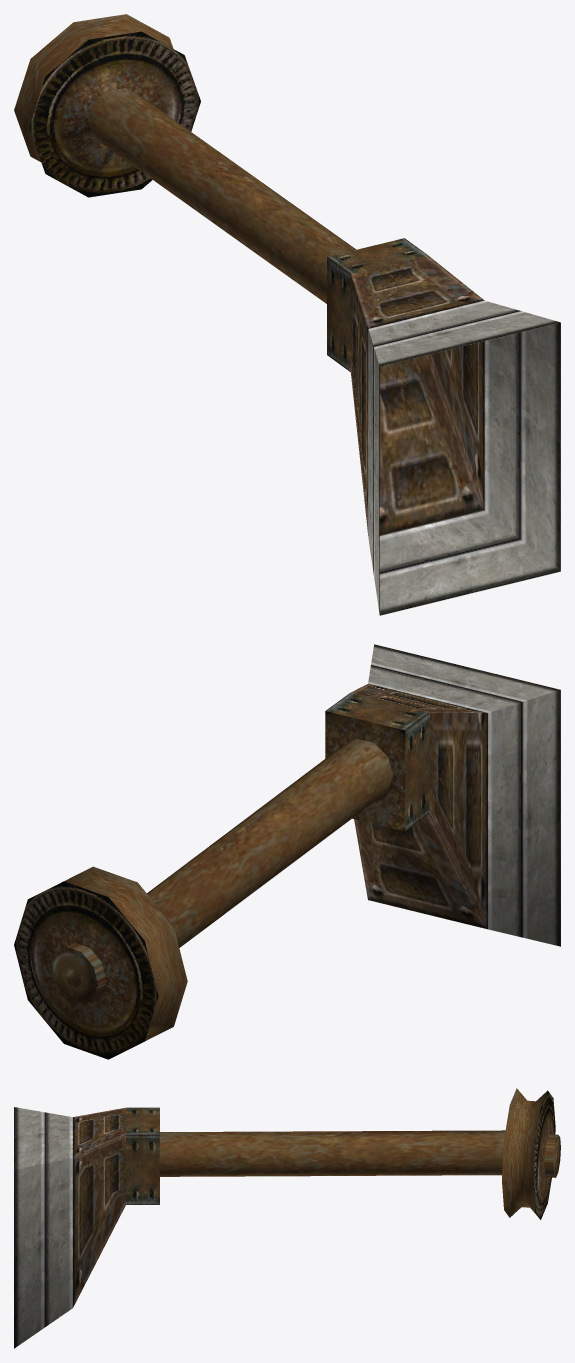
File: DWARF_PALACE_GONDOLA_SUPPORT02.fbx
3 views of the same model, one above another, from view 1: azimuth 30°, elevation 25°; view 2: azimuth 150°, elevation 25°; view 3: azimuth 270°, elevation 25° (orthographic). The views are drawn at different scales.
Parts seen in each view (by area): view 1: DWARF_PALACE_GONDOLA_SUPPORT02; view 2: DWARF_PALACE_GONDOLA_SUPPORT02; view 3: DWARF_PALACE_GONDOLA_SUPPORT02.
Part boxes in pixels (x1,y1,x2,y2): DWARF_PALACE_GONDOLA_SUPPORT02: (14,14,560,615); DWARF_PALACE_GONDOLA_SUPPORT02: (14,644,560,1059); DWARF_PALACE_GONDOLA_SUPPORT02: (14,1088,560,1348).
Bounding box in the file's own units: 9972 × 16021 × 36386.
6 materials, 6 textured.
